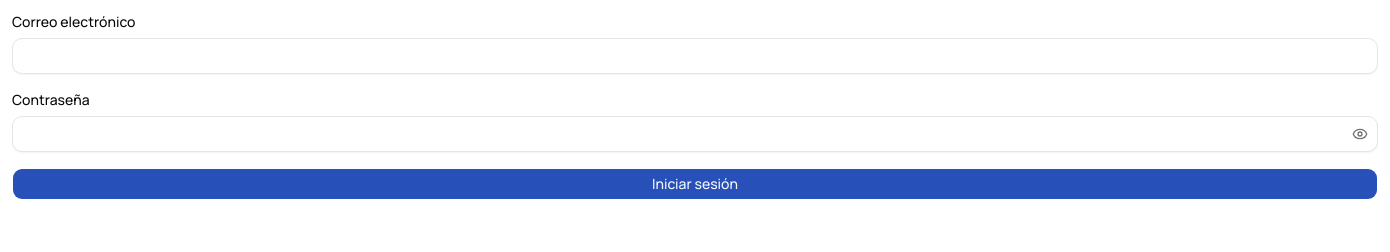
Scenario: LoginForm › shows one generic inline error on invalid credentials, session stays anonymous, no redirect
Type "a@b.com" into the field labelled "Correo electrónico".
click(695, 56); type("a@b.com")  # box [12,38,1378,74]
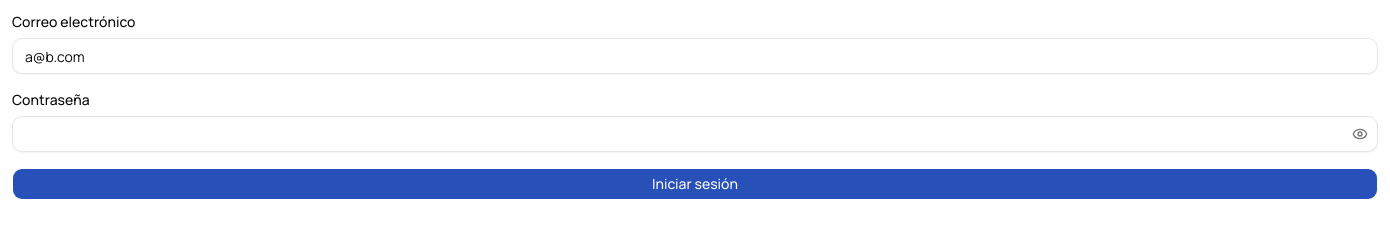
Type "wrong" into the password field labelled "Contraseña".
click(695, 134); type("wrong")  # box [12,116,1378,152]
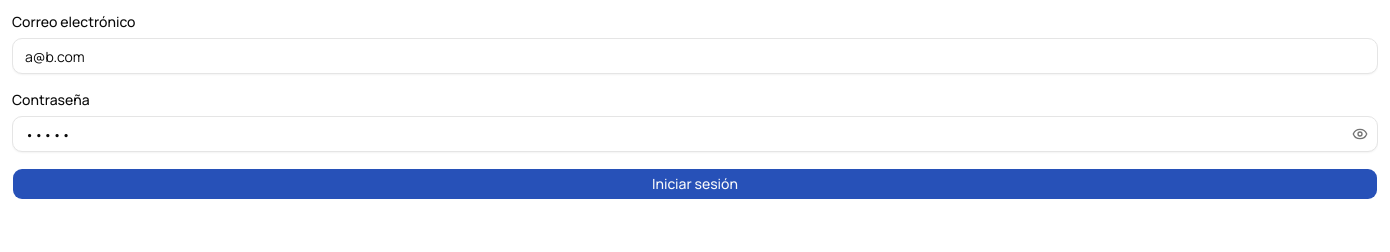
Click the button "Iniciar sesión".
click(695, 184)  # box [12,168,1378,200]
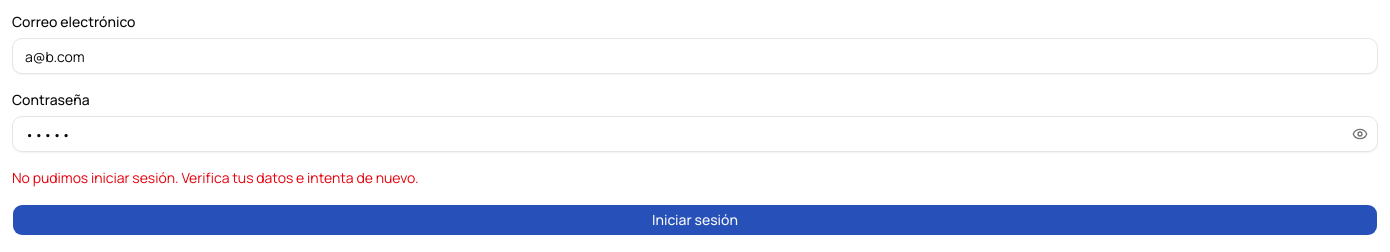
expect the number of messages is 1: met, box [12,168,419,187]
